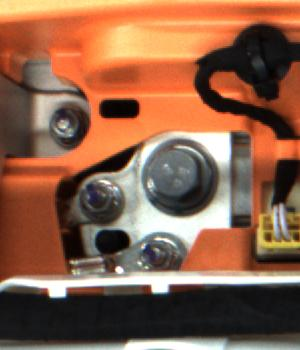nut_b: (141, 135, 219, 213)
screw_s: (46, 109, 99, 154), (79, 184, 117, 222), (136, 237, 177, 266)
